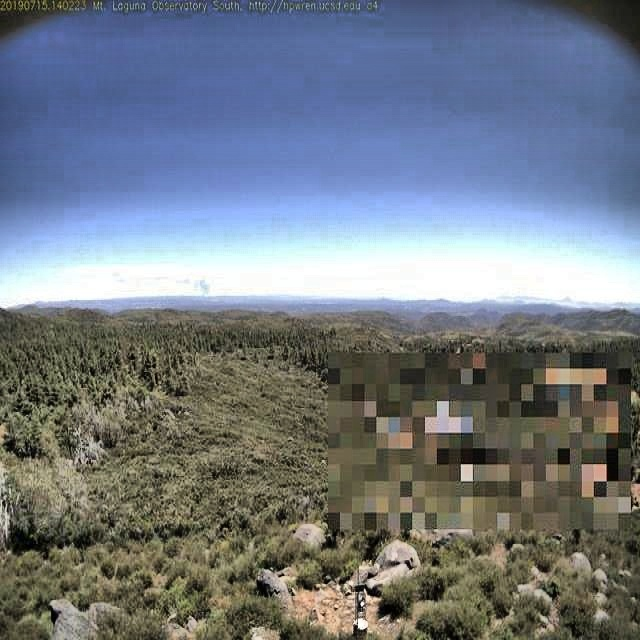smoke: (187, 274, 216, 298)
